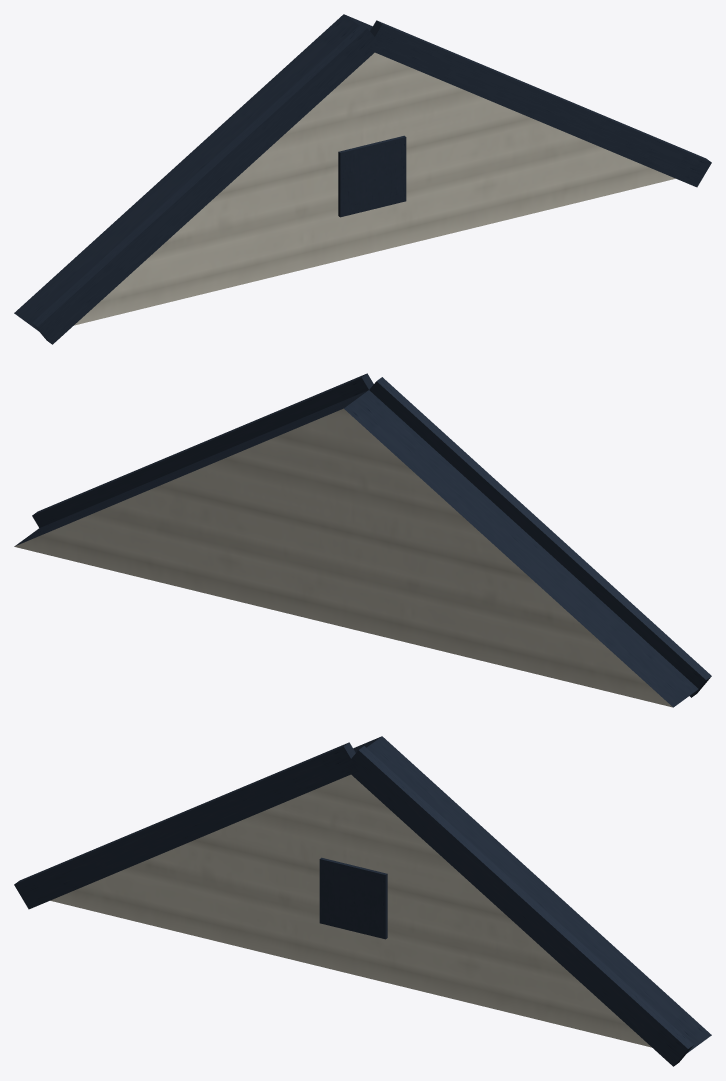
Rendered from house_05_gable.glb.
3 renders of one model, top to bottom at view 1: azimuth 30°, elevation 25°; view 2: azimuth 150°, elevation 25°; view 3: azimuth 330°, elevation 25°, orthographic.
Parts seen in each view (by area): view 1: outdoor_house_05_gable; view 2: outdoor_house_05_gable; view 3: outdoor_house_05_gable.
Boxes of the visible parts, bbox=[...] form: outdoor_house_05_gable: bbox=[14, 14, 711, 344]; outdoor_house_05_gable: bbox=[14, 373, 711, 707]; outdoor_house_05_gable: bbox=[14, 736, 711, 1066].
Size of the model in its own units: 3 by 1.02 by 0.24.
Materials: 1 (1 with a texture image).
